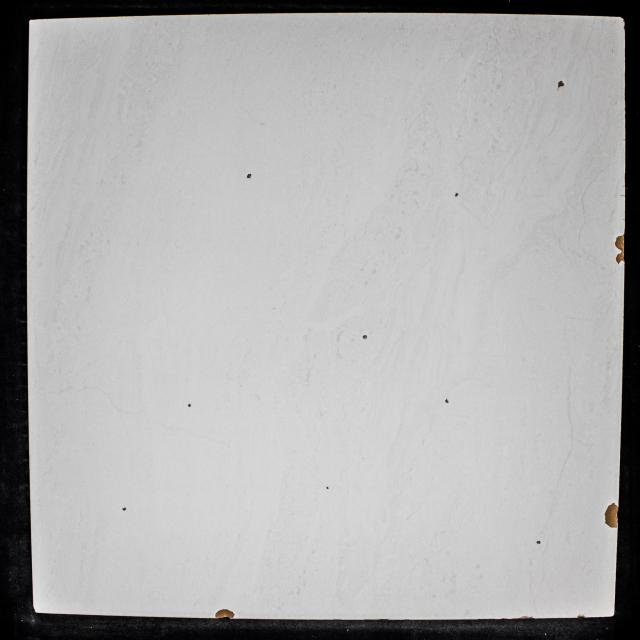edge-chipping: (604, 502, 620, 528), (214, 608, 235, 620), (615, 232, 626, 250), (615, 251, 626, 264), (518, 615, 535, 620), (576, 613, 586, 619), (32, 606, 36, 614), (620, 16, 625, 22), (623, 25, 626, 30)
hole: (557, 80, 565, 88), (245, 173, 252, 179), (454, 192, 459, 198), (362, 334, 368, 339), (444, 398, 449, 403), (536, 540, 541, 544), (122, 507, 126, 511), (188, 403, 191, 408), (326, 486, 329, 489)
line: (619, 194, 625, 197)
